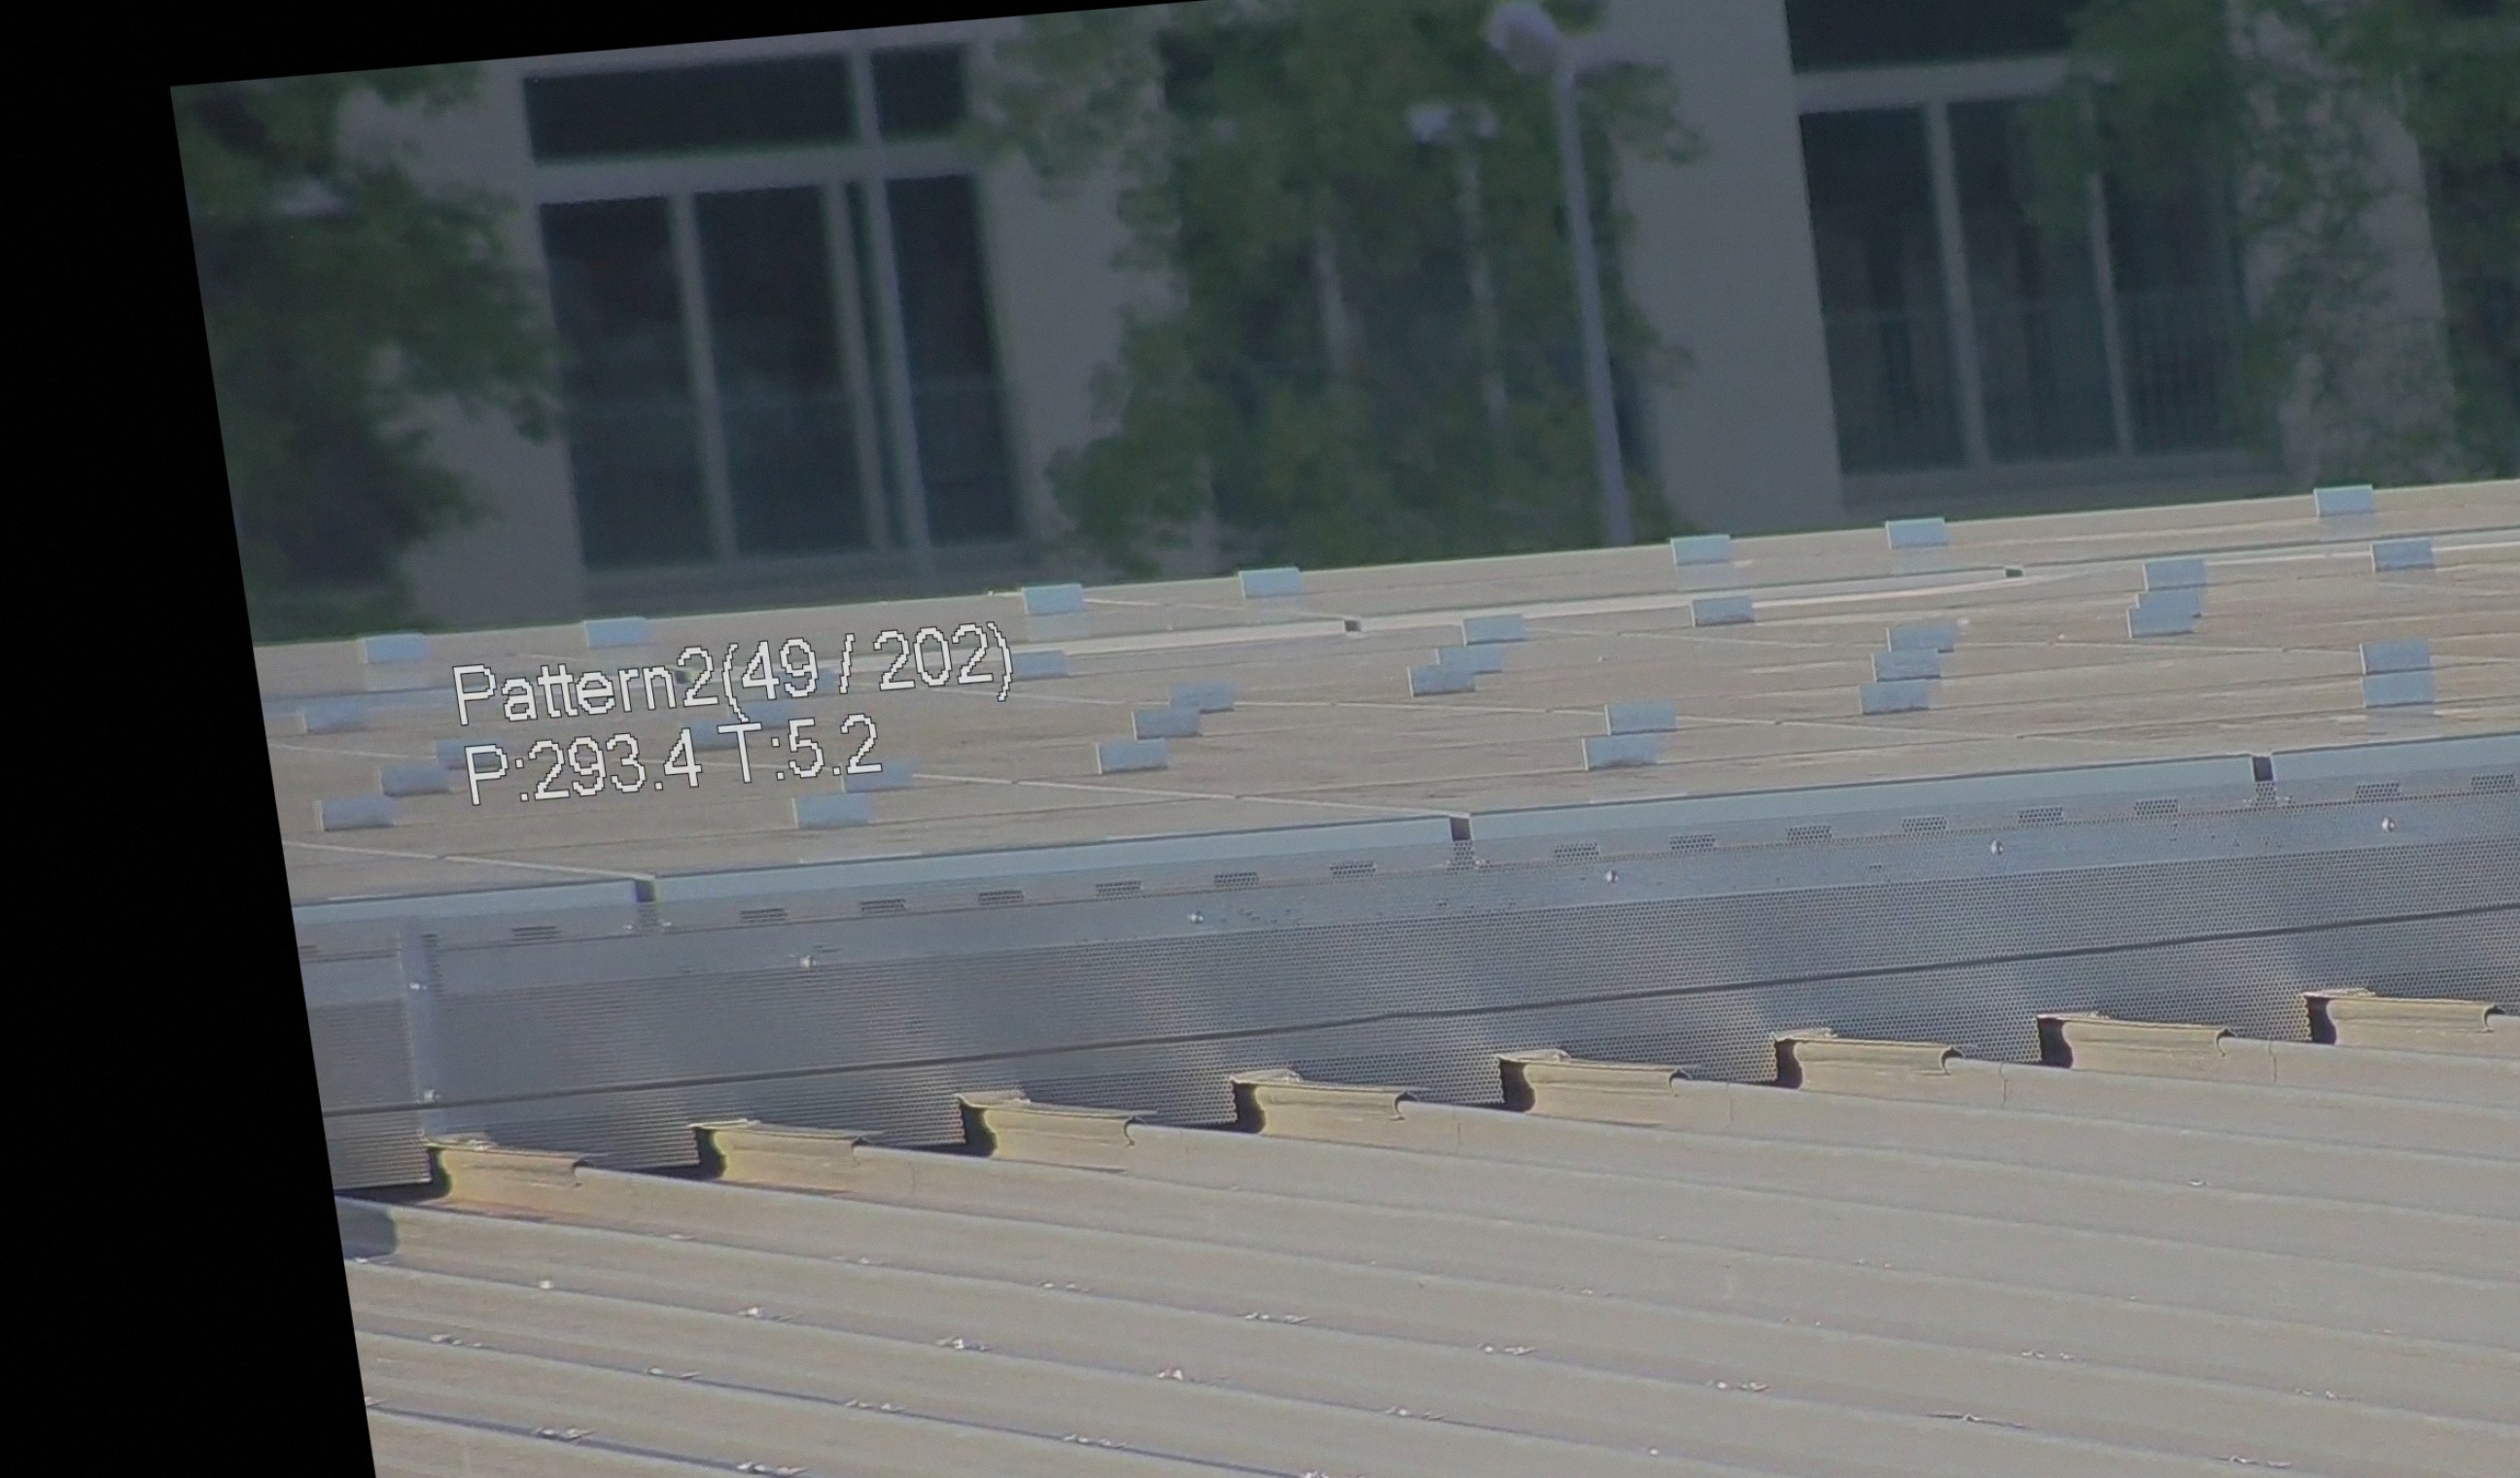Other: (907, 1086, 987, 1165)
